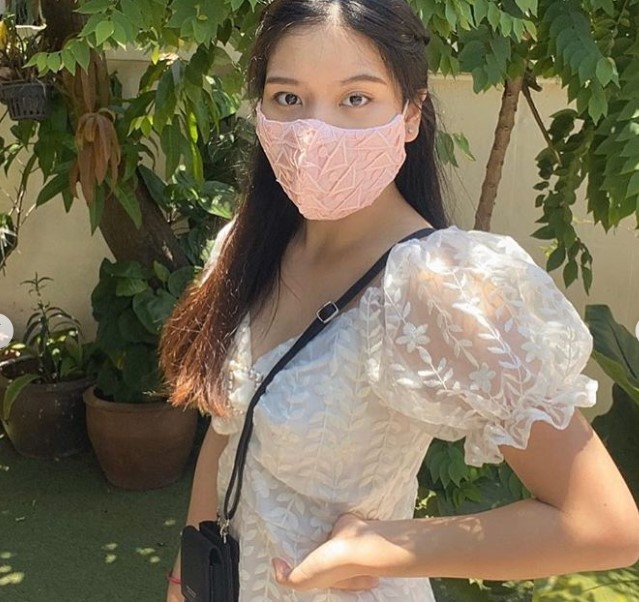face_with_mask: (254, 3, 430, 220)
